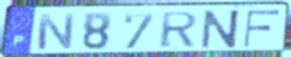7: (122, 11, 157, 51)
8: (81, 11, 113, 51)
F: (241, 9, 282, 49)
N: (200, 9, 242, 51), (35, 13, 76, 52)
R: (158, 11, 201, 50)
